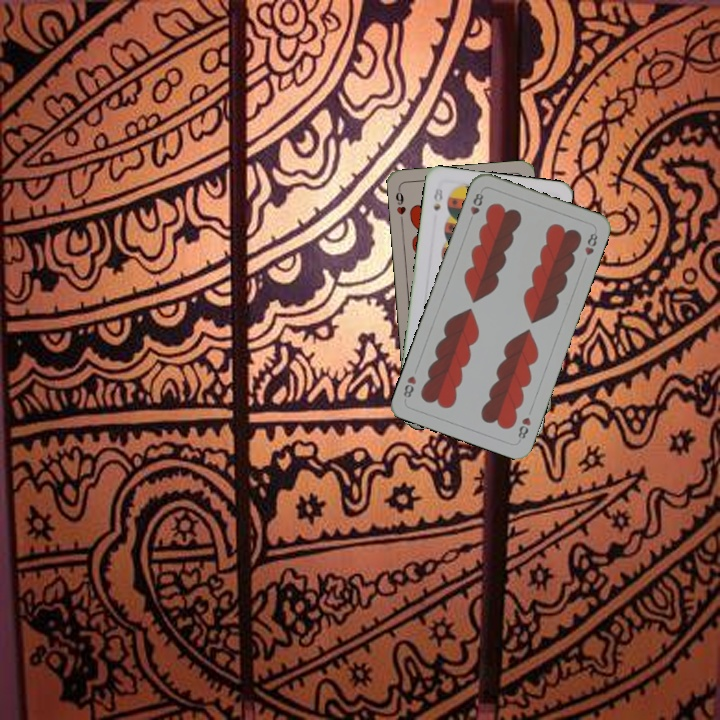H8: (514, 413, 534, 444), (466, 189, 486, 217)
H9: (391, 185, 408, 225)
S8: (429, 184, 445, 213)
